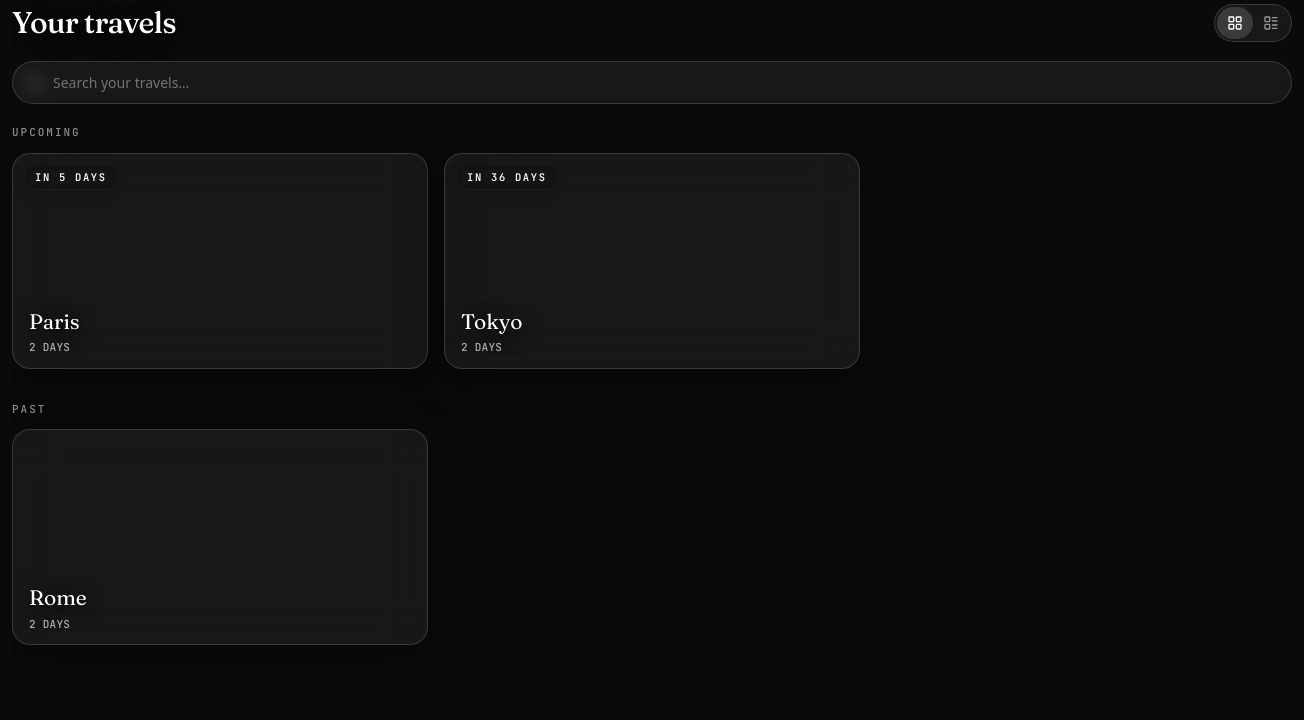
Test: TravelsList › filters by search query and restores via the clear button
The image size is (1304, 720).
Expected: the text "Paris" is shown, [29,308,80,334]
Expected: the text "Tokyo" is shown, [461,308,522,334]
Type "paris" into the search field at (652, 82), box [12,61,1292,104]
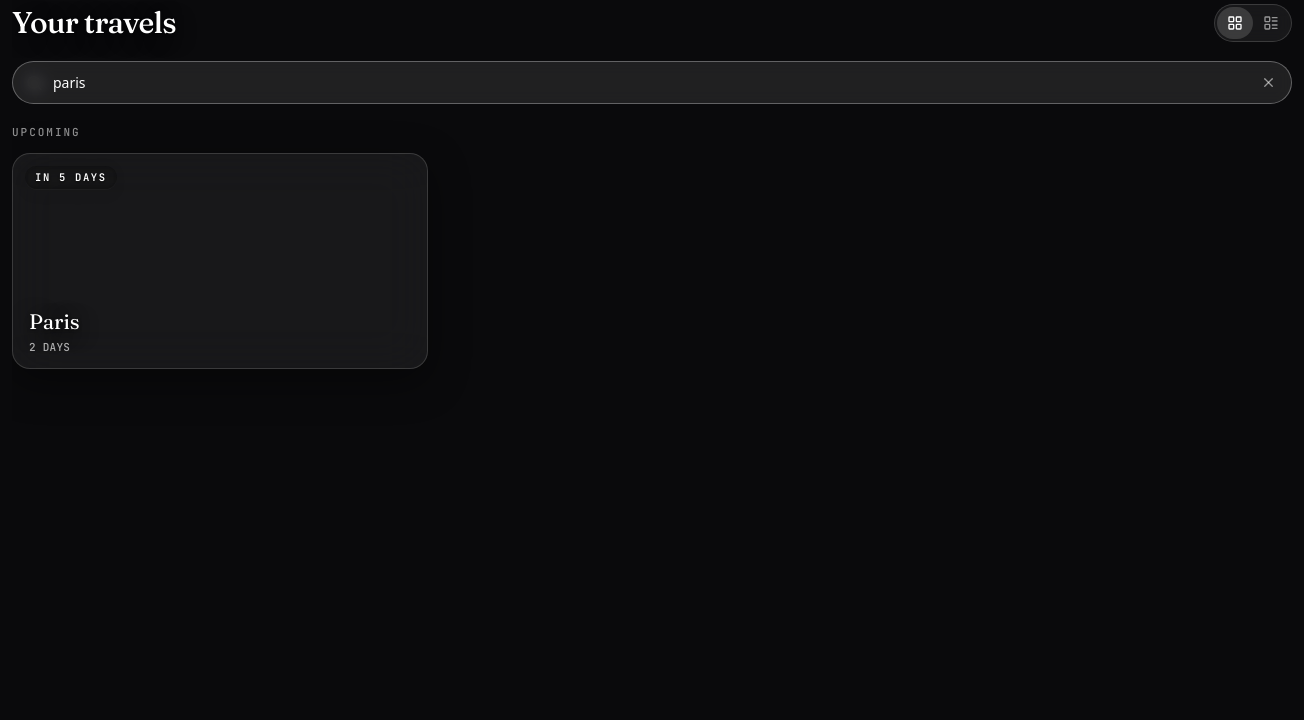
Expected: the text "Paris" is shown, [29,308,80,334]
Expected: the text "Tokyo" is gone
Expected: the text "Rome" is gone
Click the button named "Clear travel search" at (1268, 82), box [1254,68,1282,96]
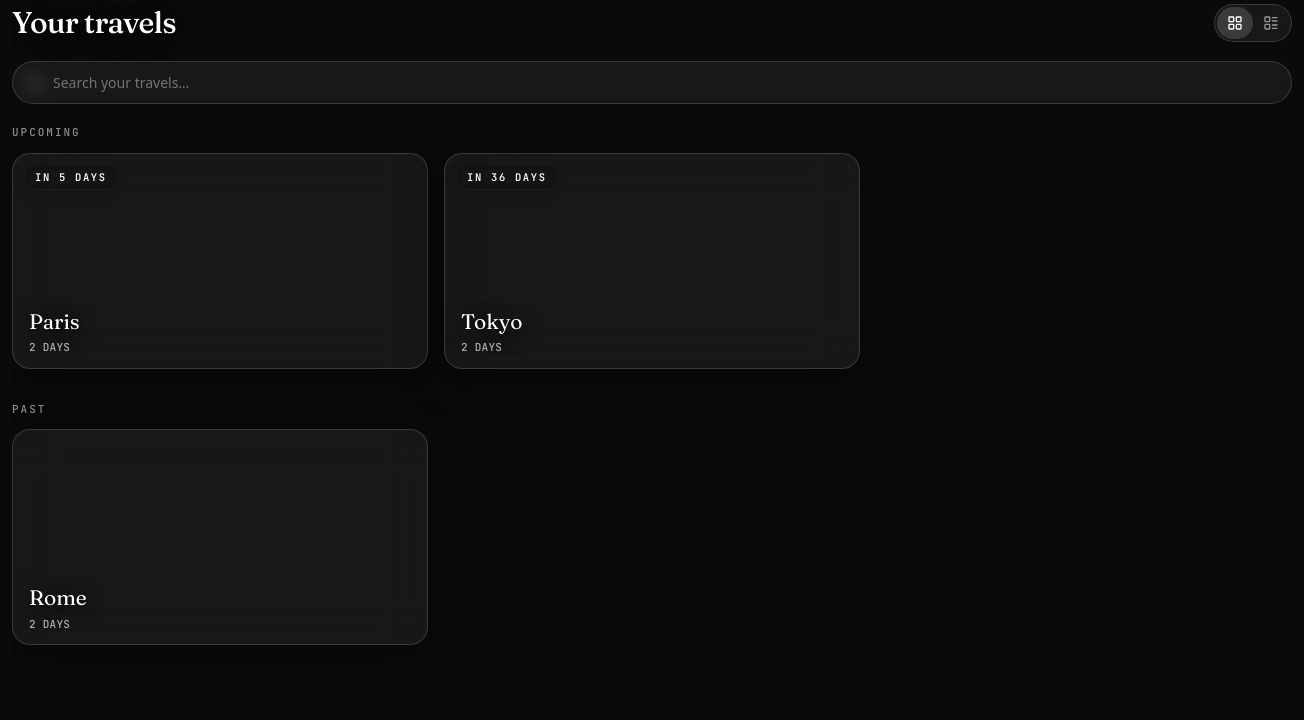
Expected: the text "Tokyo" is shown, [461,308,522,334]
Expected: the text "Rome" is shown, [29,584,87,610]
